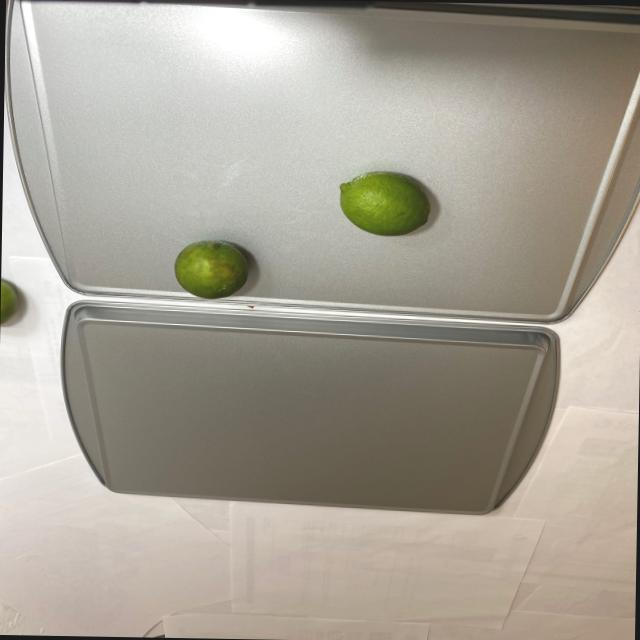lemon: (332, 168, 432, 240), (167, 236, 256, 299)
